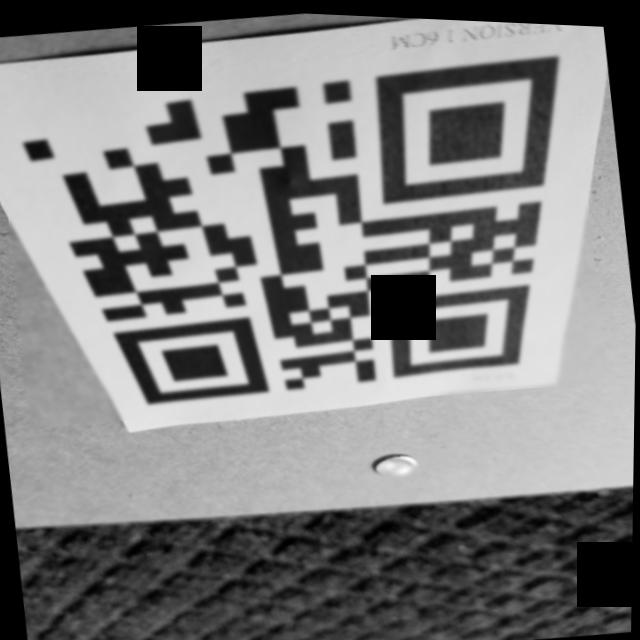QR_CODE: (0, 15, 612, 446)
